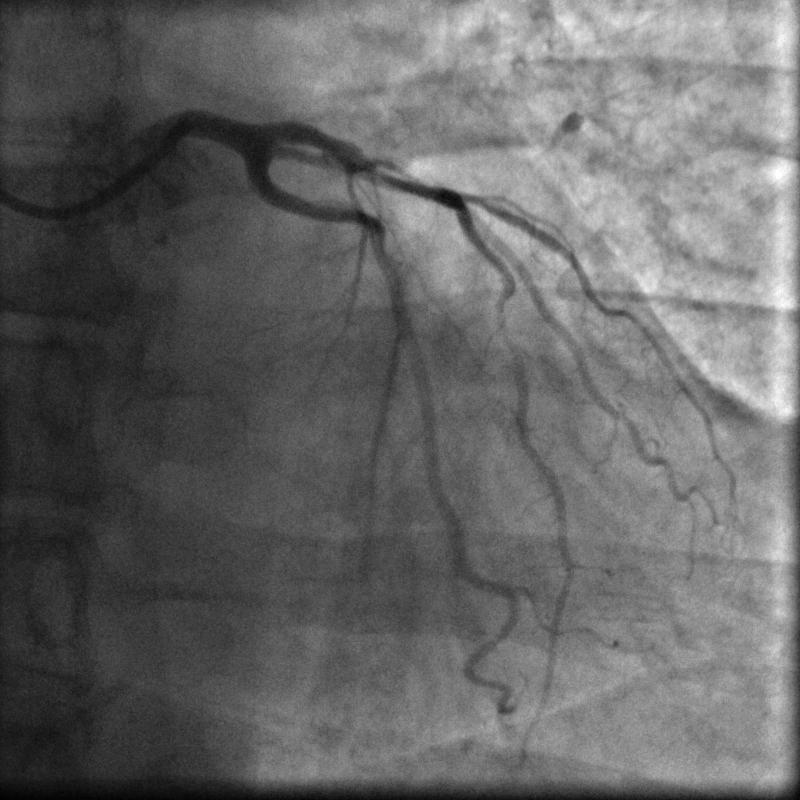Stenosis: (358, 153, 453, 202)
